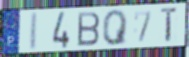4: (52, 10, 72, 50)
7: (133, 10, 153, 43)
B: (77, 11, 102, 48)
I: (28, 11, 39, 52)
Q: (102, 8, 130, 47)
T: (159, 6, 180, 45)
